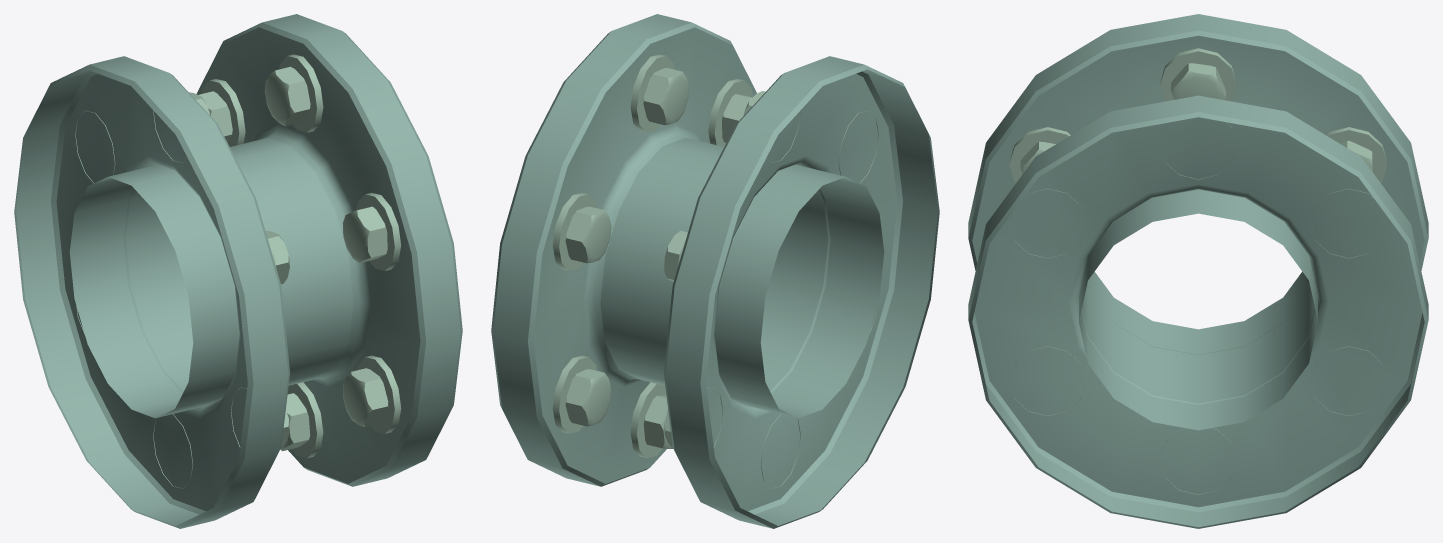
Rendered from PipeComplexLarge_A3_Short_1.fbx.
The picture shows the model from 3 angles, left to right: view 1: azimuth 30°, elevation 25°; view 2: azimuth 150°, elevation 25°; view 3: azimuth 270°, elevation 25°; orthographic projection. The views are drawn at different scales.
Visible parts, largest first — view 1: PipeComplexLarge_A3_Short_1.001; view 2: PipeComplexLarge_A3_Short_1.001; view 3: PipeComplexLarge_A3_Short_1.001.
Part boxes in pixels (<box>): PipeComplexLarge_A3_Short_1.001: <box>14,14,462,528</box>; PipeComplexLarge_A3_Short_1.001: <box>491,14,939,528</box>; PipeComplexLarge_A3_Short_1.001: <box>968,14,1428,528</box>.
Size of the model in its own units: 0.2009 by 0.3846 by 0.3846.
